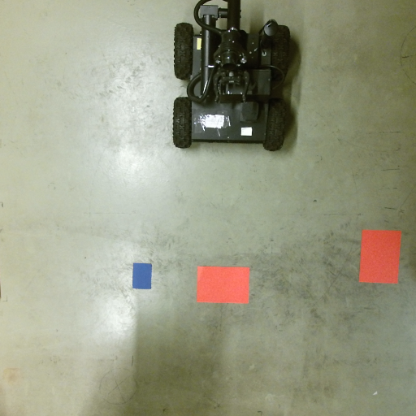Blue: (131, 265, 153, 291)
Jaguar: (170, 0, 288, 156)
Red: (357, 229, 402, 285), (194, 267, 253, 304)
